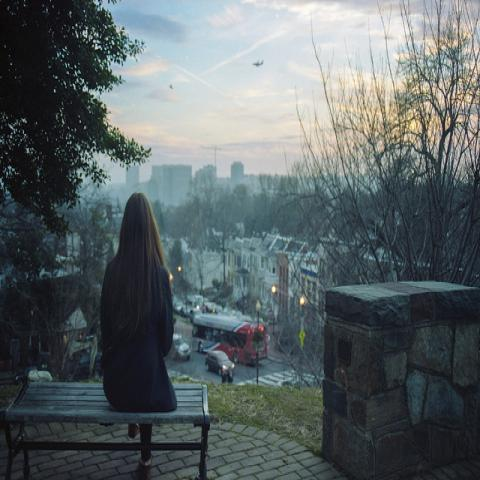bus: (194, 312, 268, 367)
car: (67, 348, 103, 379), (204, 352, 235, 374), (170, 332, 186, 361), (178, 342, 191, 360), (190, 308, 203, 323), (206, 303, 222, 312), (180, 305, 191, 318), (173, 304, 182, 312)
